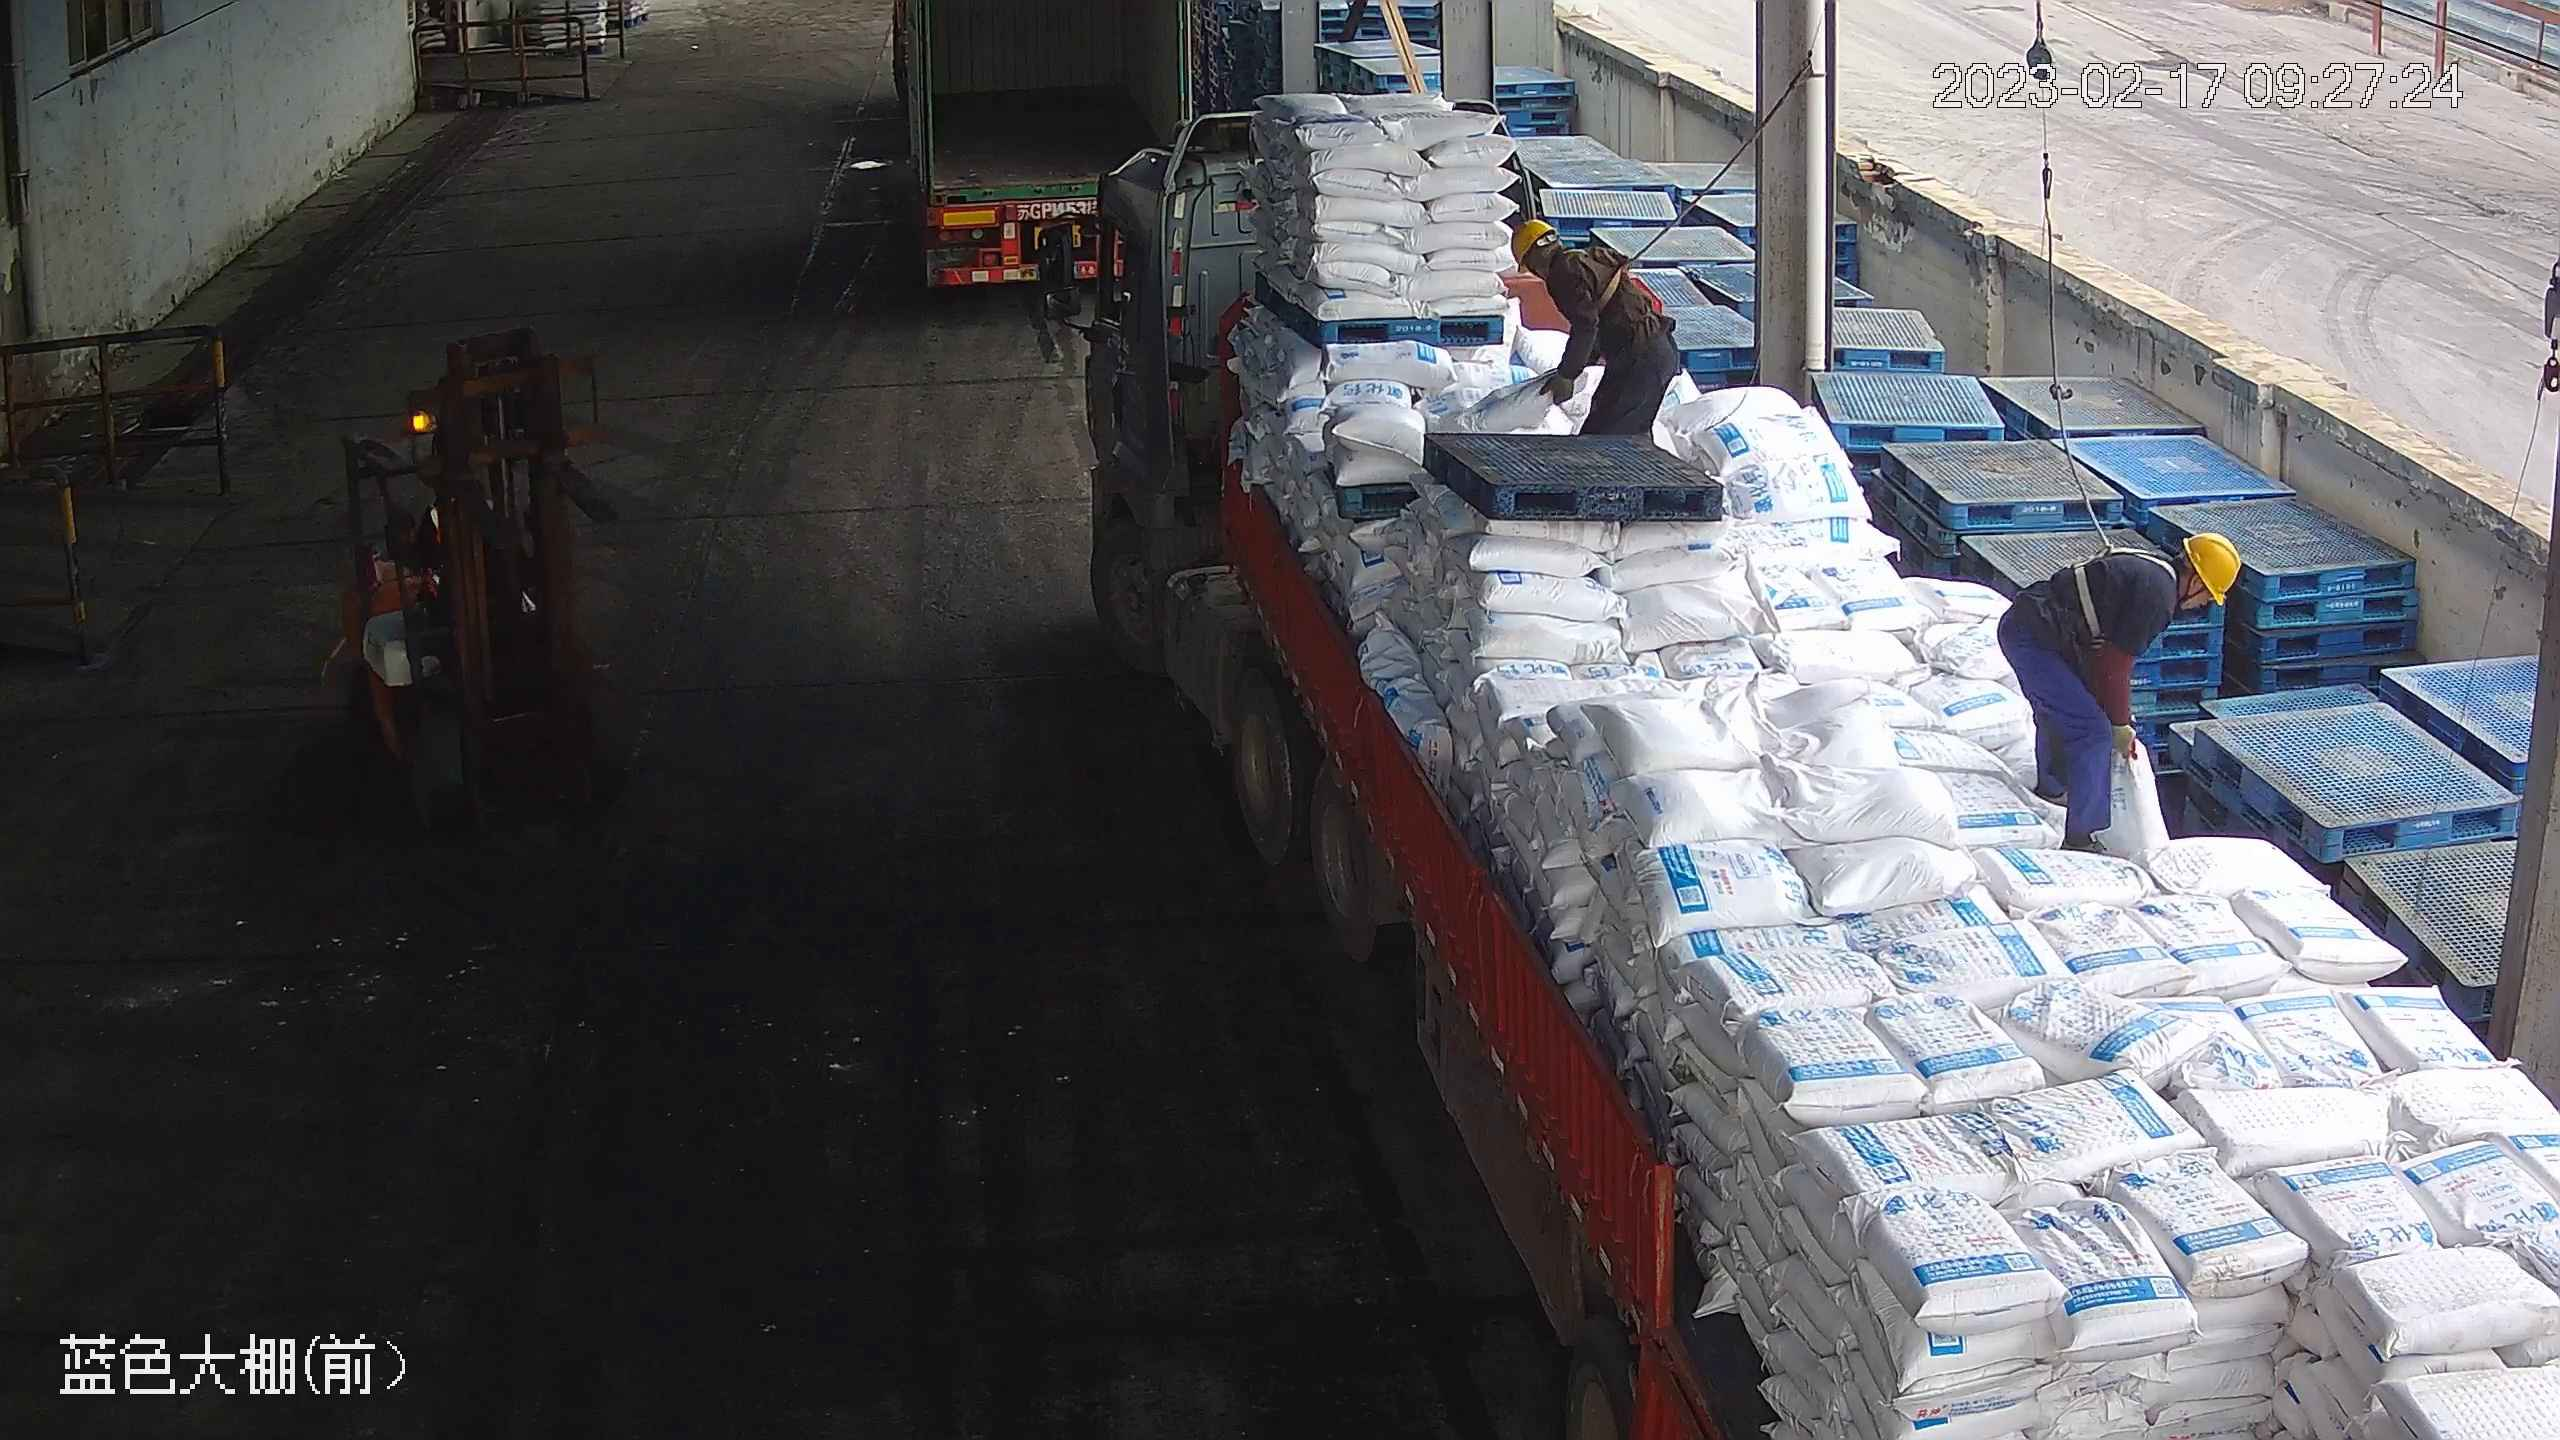belt: (2064, 540, 2184, 647), (1560, 237, 1639, 316)
head: (2096, 525, 2242, 645), (1508, 217, 1611, 303)
helmet: (2180, 526, 2239, 608), (1508, 216, 1556, 263)
people: (1995, 529, 2242, 859), (1507, 217, 1687, 443)
truck: (1045, 92, 2547, 1437), (890, 1, 1201, 299)
